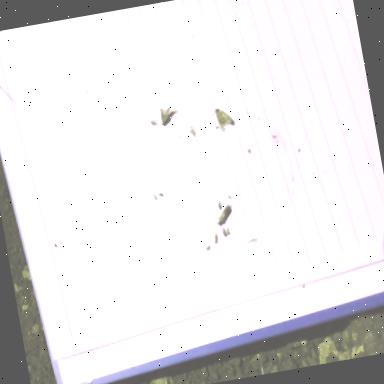pbw: (212, 203, 237, 233), (216, 106, 236, 134), (159, 104, 182, 128)
